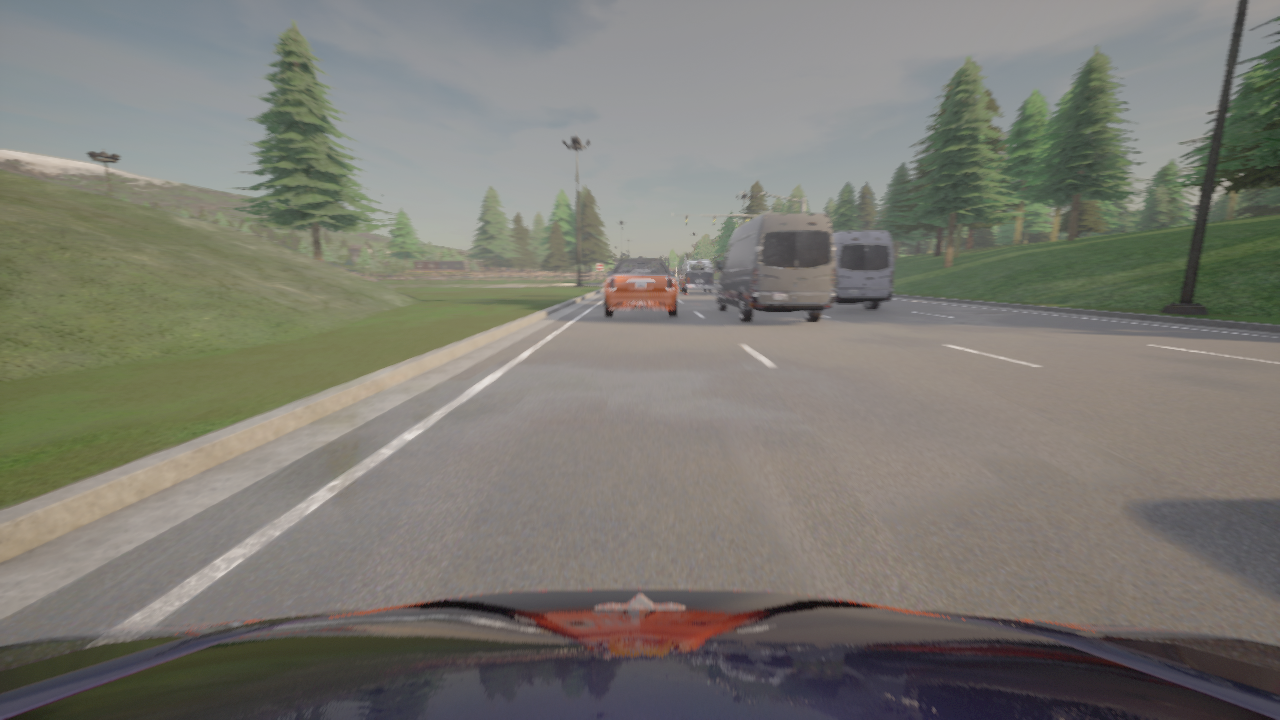cyclist: (0, 588, 1279, 719), (715, 212, 835, 322), (833, 230, 893, 309), (603, 256, 677, 316), (678, 259, 713, 293)
